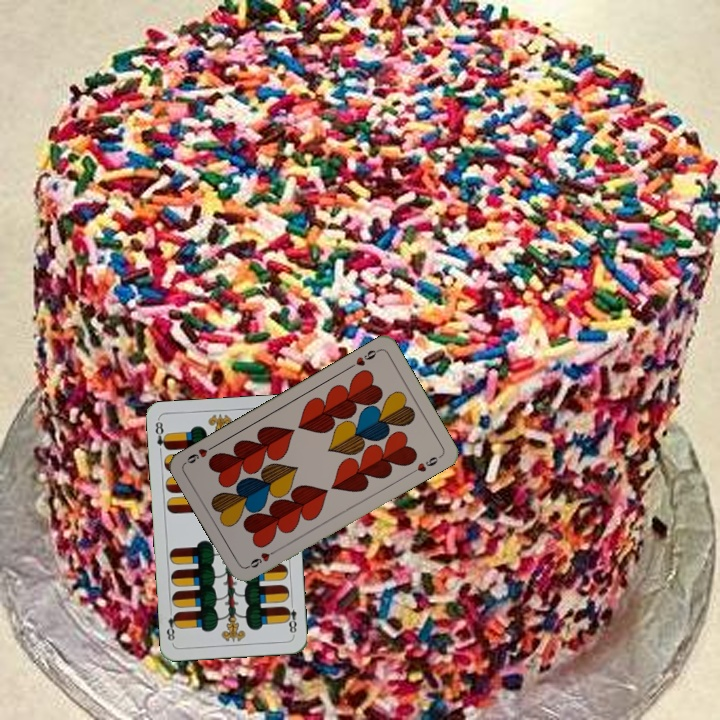E8: (151, 416, 171, 453), (281, 597, 299, 638)
H9: (345, 345, 382, 371), (243, 546, 280, 571)
